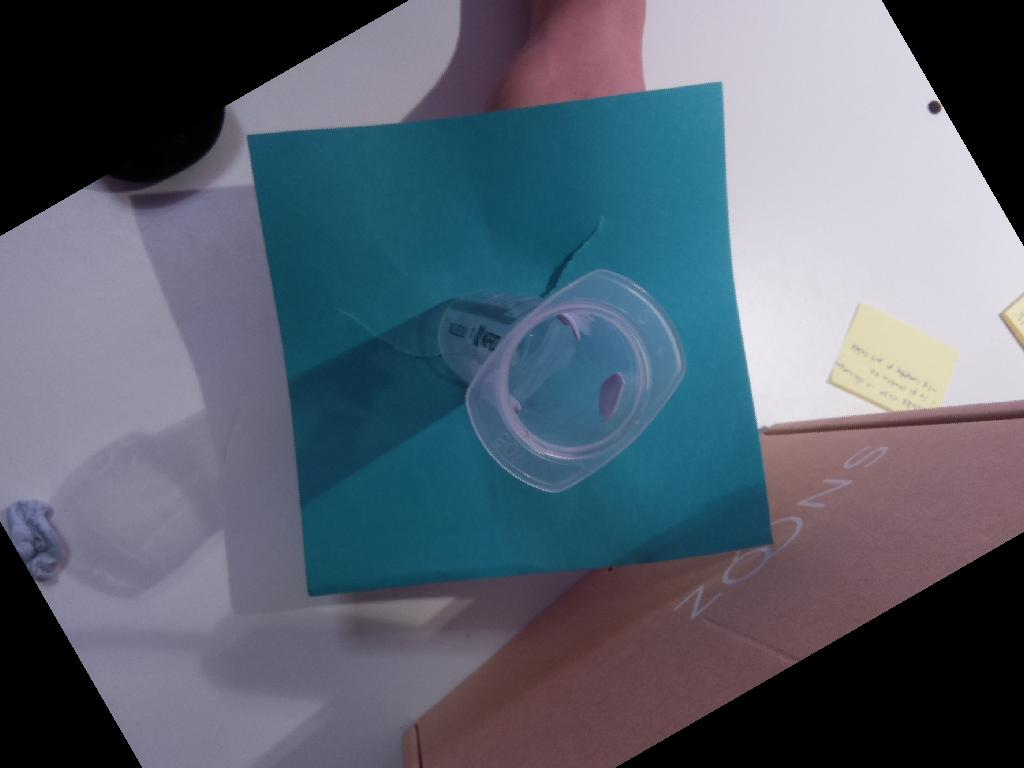dirty: (465, 267, 687, 493)
